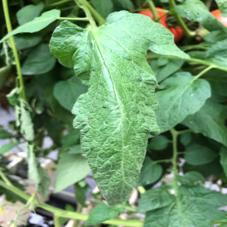Healthy: (47, 9, 177, 209), (151, 70, 214, 141)
